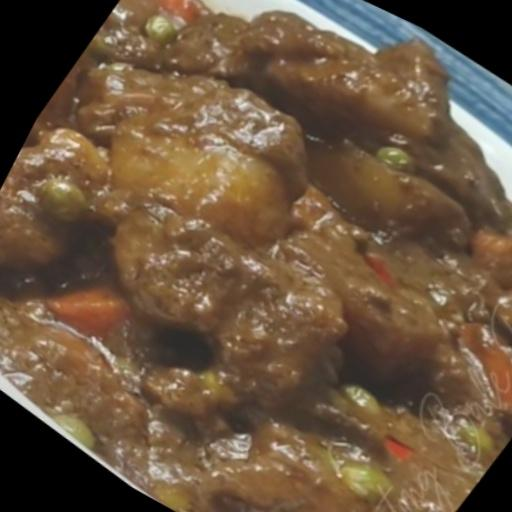pork caldereta: (0, 0, 511, 511)
